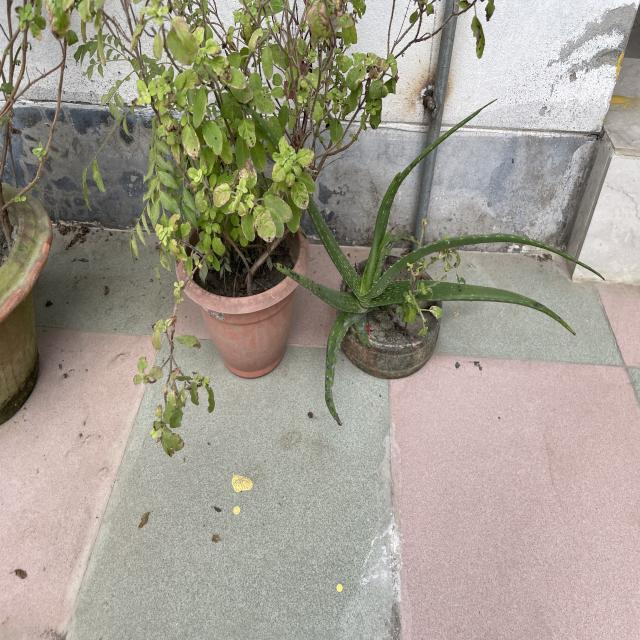Breeding Place: (157, 168, 324, 395), (0, 157, 79, 455), (334, 240, 447, 394)
